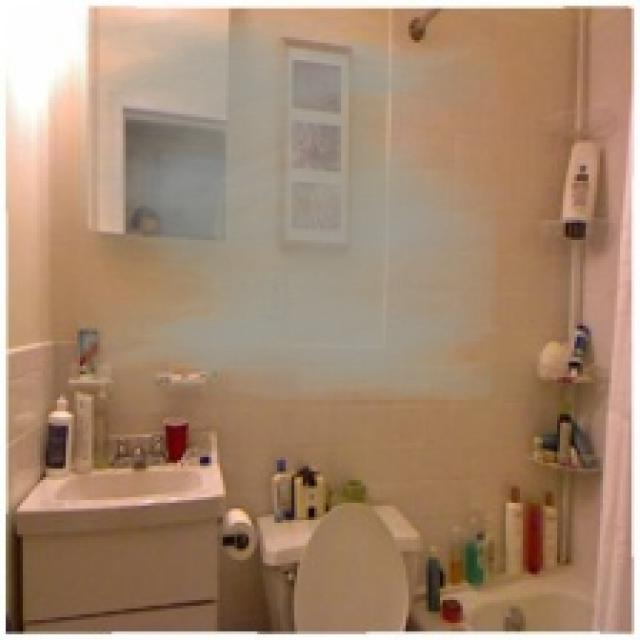smoke: (77, 14, 497, 400)
